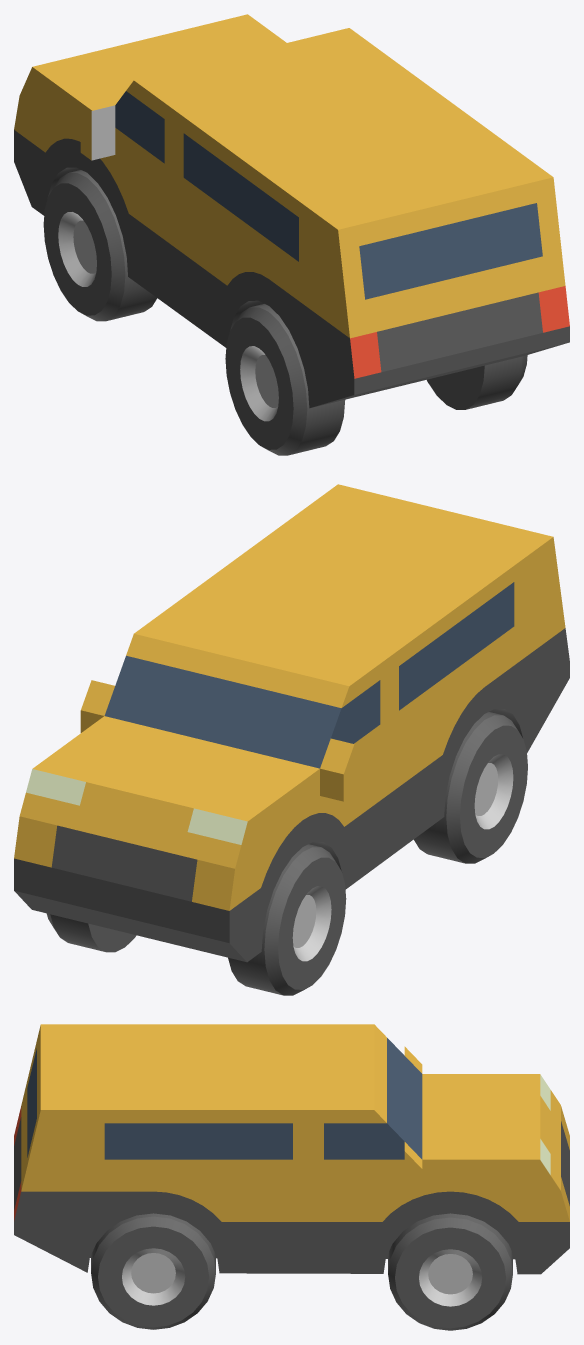
Rendered from carStation.fbx.
3 views of the same model, one above another, from view 1: azimuth 30°, elevation 25°; view 2: azimuth 150°, elevation 25°; view 3: azimuth 270°, elevation 25° (orthographic). The views are drawn at different scales.
Parts seen in each view (by area): view 1: body 9, wheelBackLeft 9, wheelFrontLeft 9, wheelBackRight 9; view 2: body 9, wheelFrontLeft 9, wheelBackLeft 9, wheelFrontRight 9; view 3: body 9, wheelFrontRight 9, wheelBackRight 9.
Boxes of the visible parts, x1,y1,x2,y2 form: body 9: [14, 14, 569, 408]; wheelBackLeft 9: [225, 304, 345, 455]; wheelFrontLeft 9: [43, 170, 157, 321]; wheelBackRight 9: [427, 355, 527, 409]; body 9: [14, 484, 569, 962]; wheelFrontLeft 9: [228, 844, 346, 995]; wheelBackLeft 9: [414, 712, 527, 863]; wheelFrontRight 9: [46, 913, 136, 952]; body 9: [14, 1024, 569, 1274]; wheelFrontRight 9: [388, 1213, 512, 1330]; wheelBackRight 9: [91, 1213, 215, 1329].
Size of the model in its own units: 5.55 by 5.48 by 12.45.
